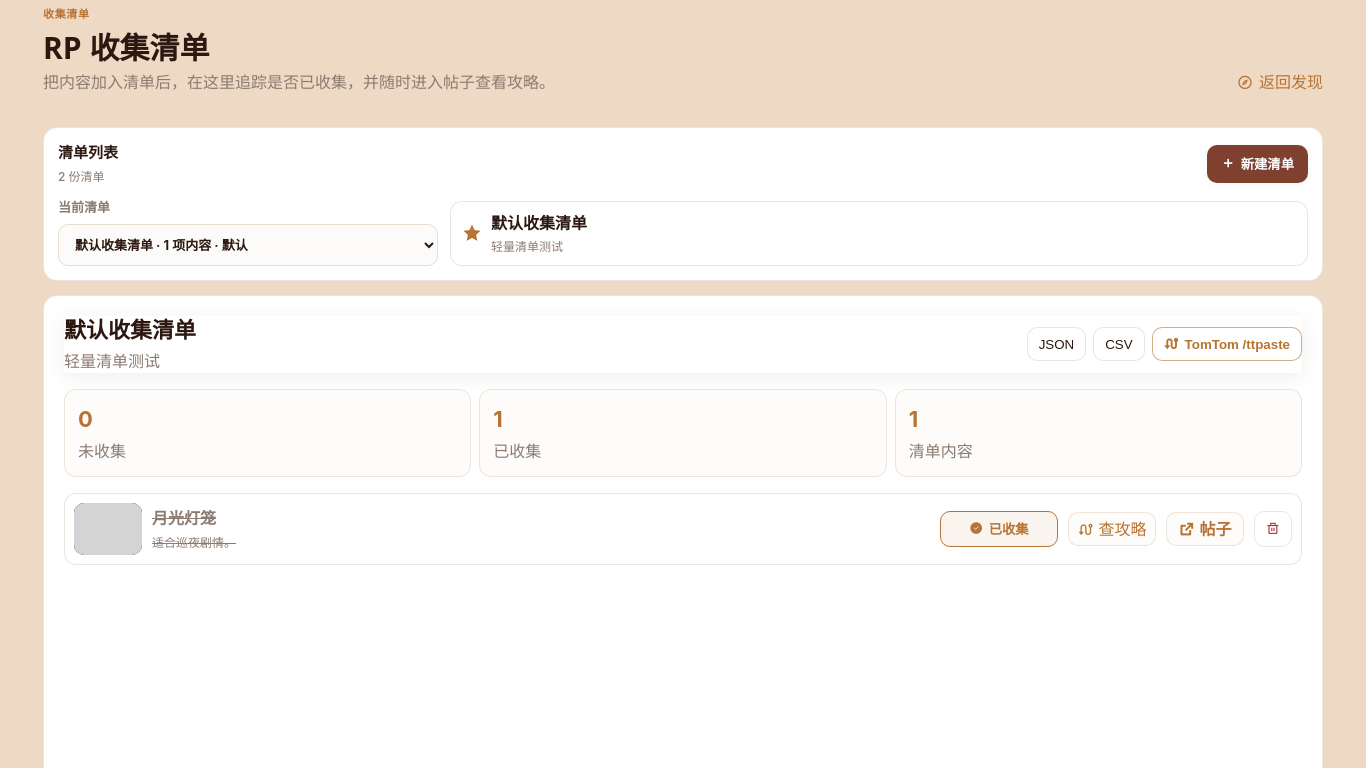
Test: RPDBLists › switches collection checklists from a single-select dropdown
Select "幻化待收集 · 0 项内容 · 默认" in the dropdown with test id "rpdb-list-select" at (248, 245), box 58,224 -> 438,266
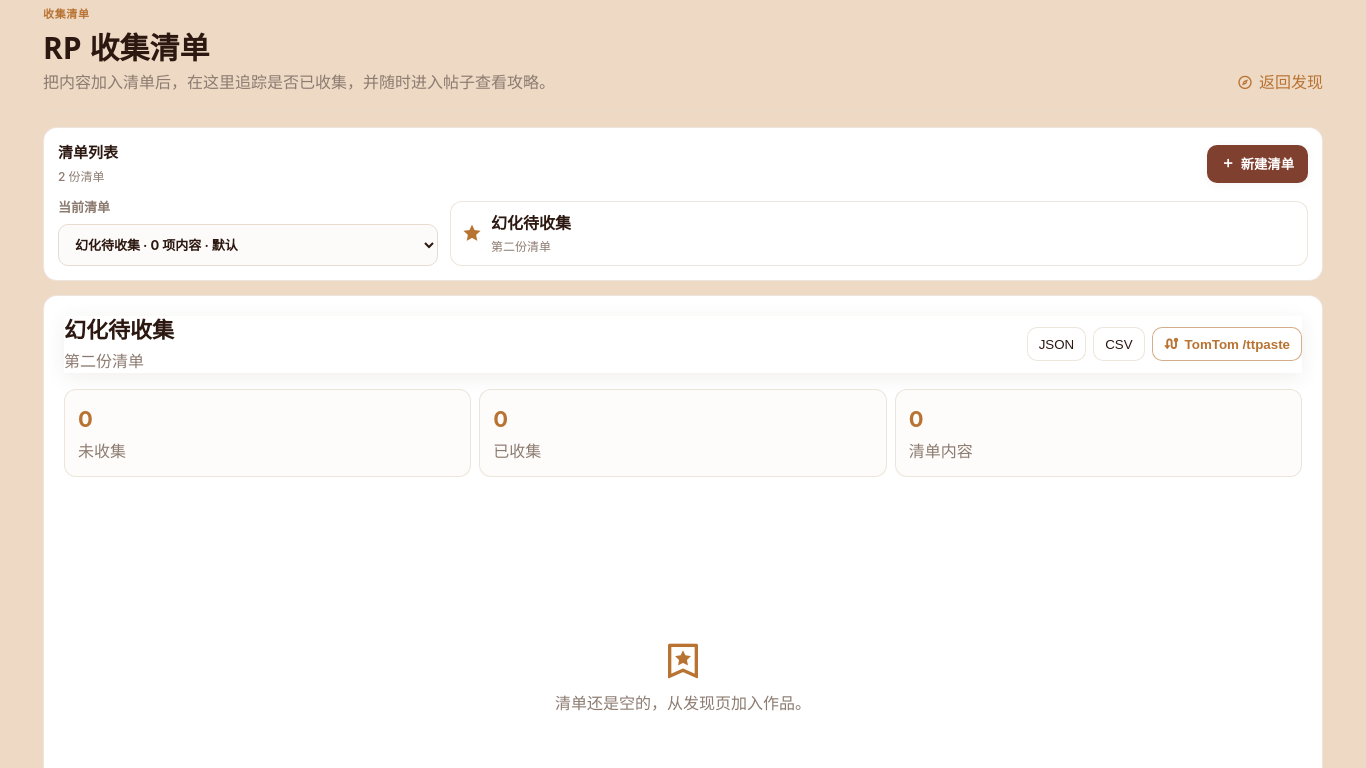
Check: the text "幻化待收集" is shown, box 491,211 -> 571,235
Check: the text "第二份清单" is shown, box 491,239 -> 551,254
Check: the text "清单还是空的" is shown, box 555,692 -> 811,712
